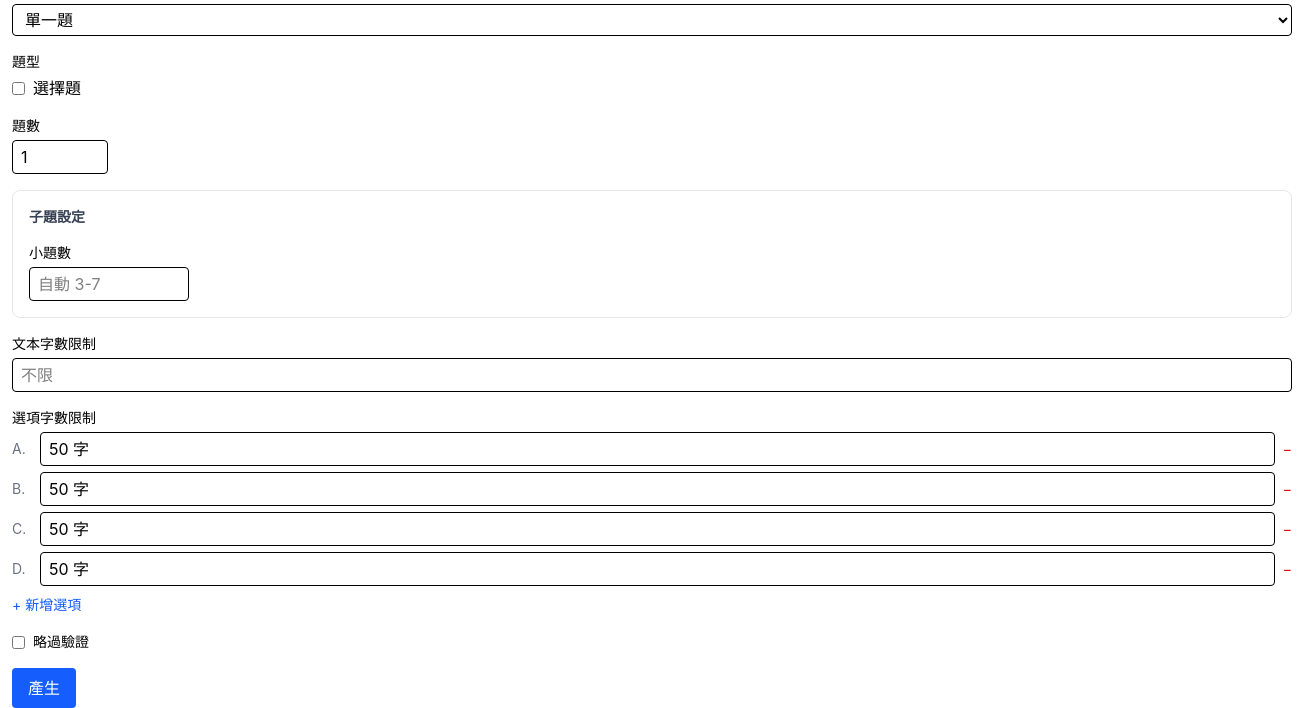
Test: ParamForm 發送前確認 display semantics › renders the returned system and user prompts as literal text in the matching question
This screenshot has width=1304, height=708.
(page scrolled)
What coordinates should you click on to do the following:
click the button "產生"
I would click on:
 (44, 688)
Its box is [12,668,76,707].
(page scrolled)
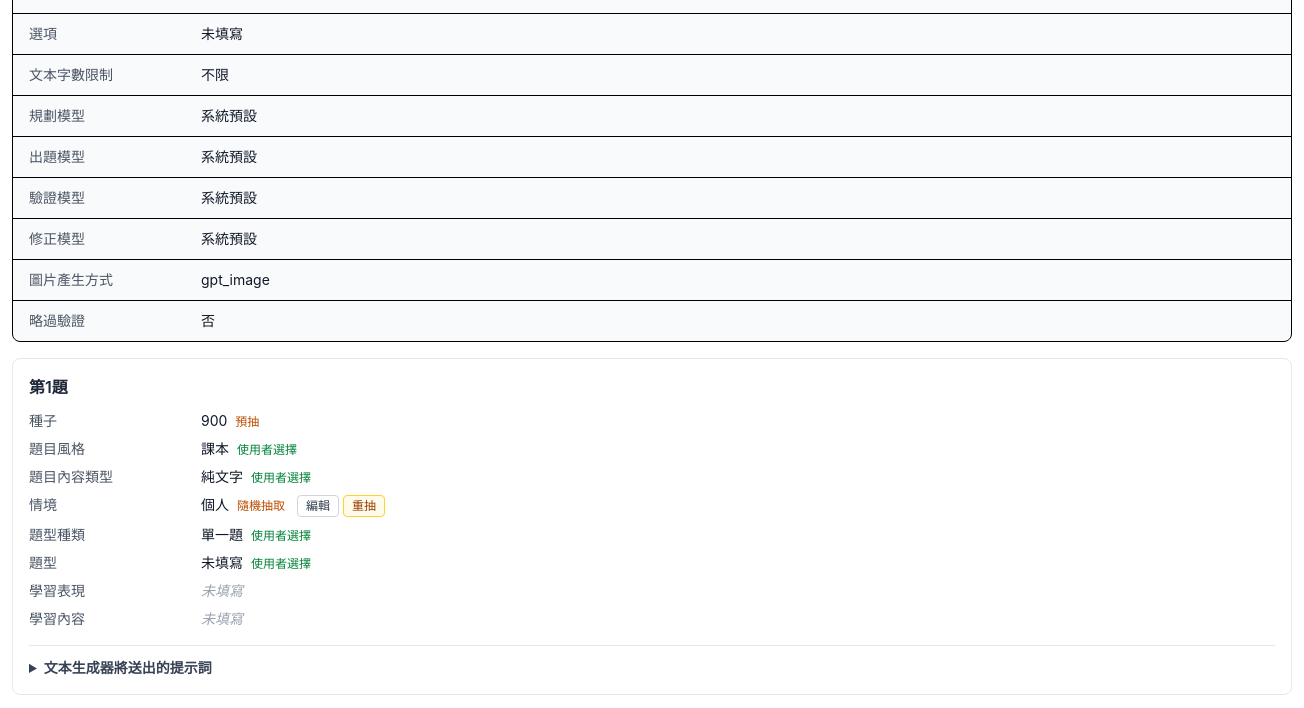
Expected: the heading "文本生成器將送出的提示詞" is shown, [44,659,212,676]
